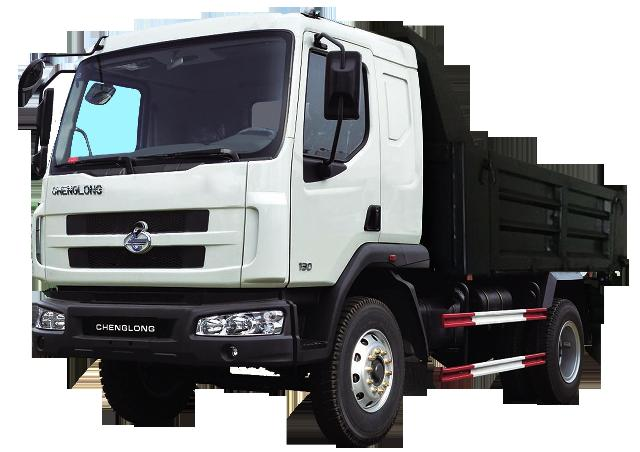truck: (9, 16, 609, 410)
